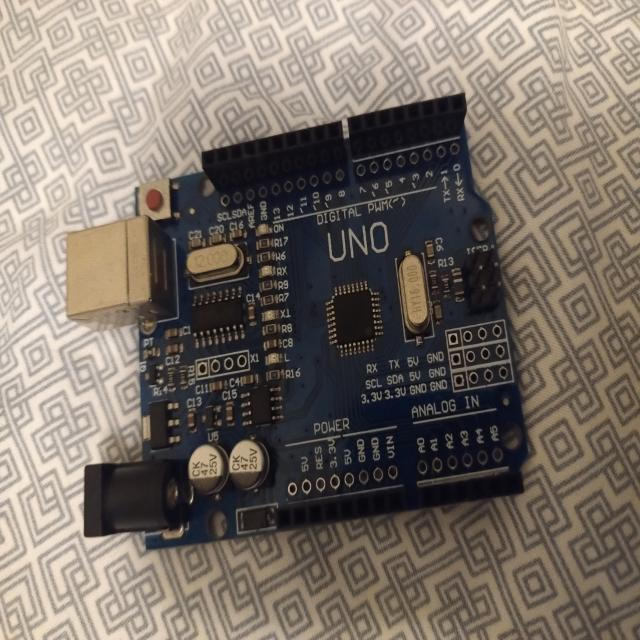arduino: (59, 78, 534, 550)
